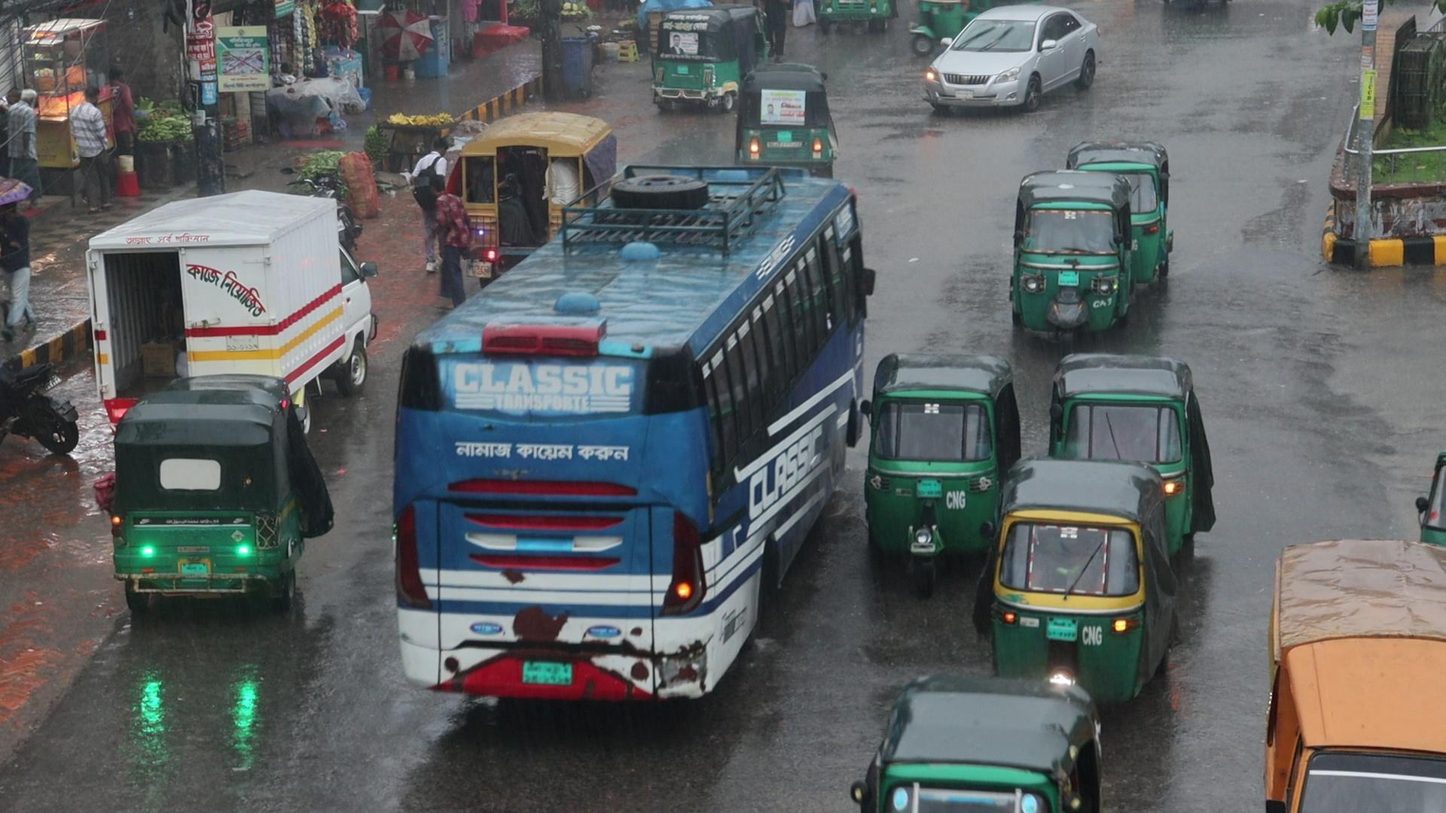Bus: (388, 156, 869, 700)
Car: (923, 2, 1103, 119)
